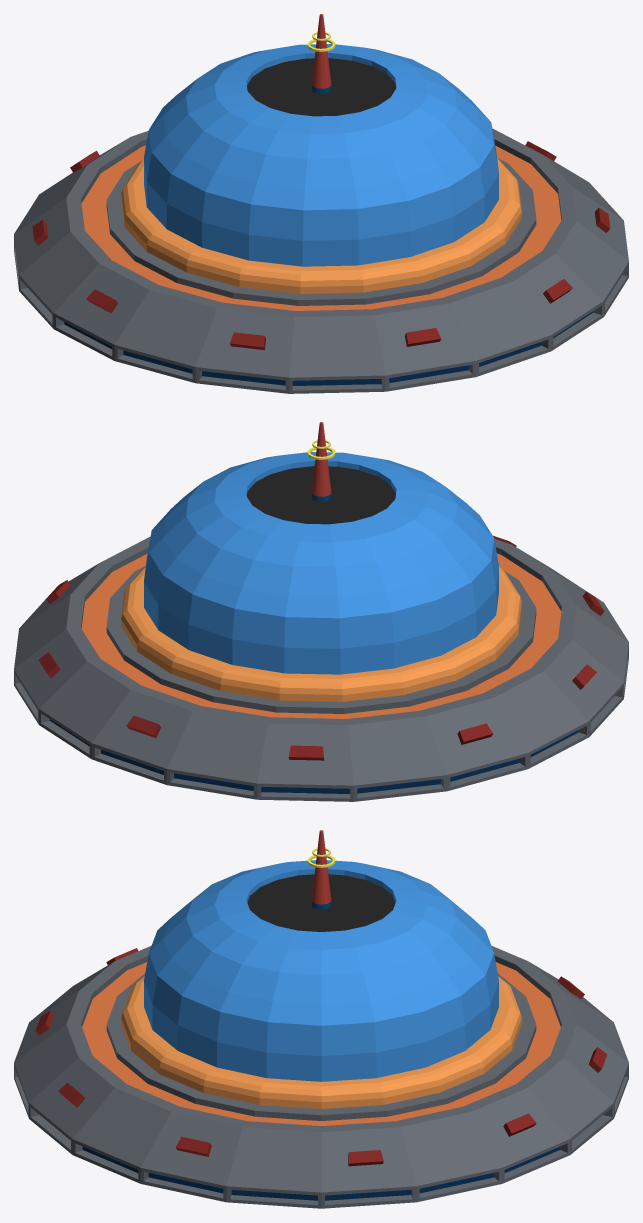
Rendered from ufo_low_poly.glb.
3 renders of one model, top to bottom at view 1: azimuth 30°, elevation 25°; view 2: azimuth 150°, elevation 25°; view 3: azimuth 270°, elevation 25°, orthographic.
Parts seen in each view (by area): view 1: UFO 2; view 2: UFO 2; view 3: UFO 2.
Boxes of the visible parts, x1=… form: UFO 2: x1=14, y1=14, x2=628, y2=393; UFO 2: x1=14, y1=422, x2=628, y2=801; UFO 2: x1=14, y1=830, x2=628, y2=1208.
Bounding box in the file's own units: 2.17 × 1.18 × 2.17.
1 material, 1 textured.
